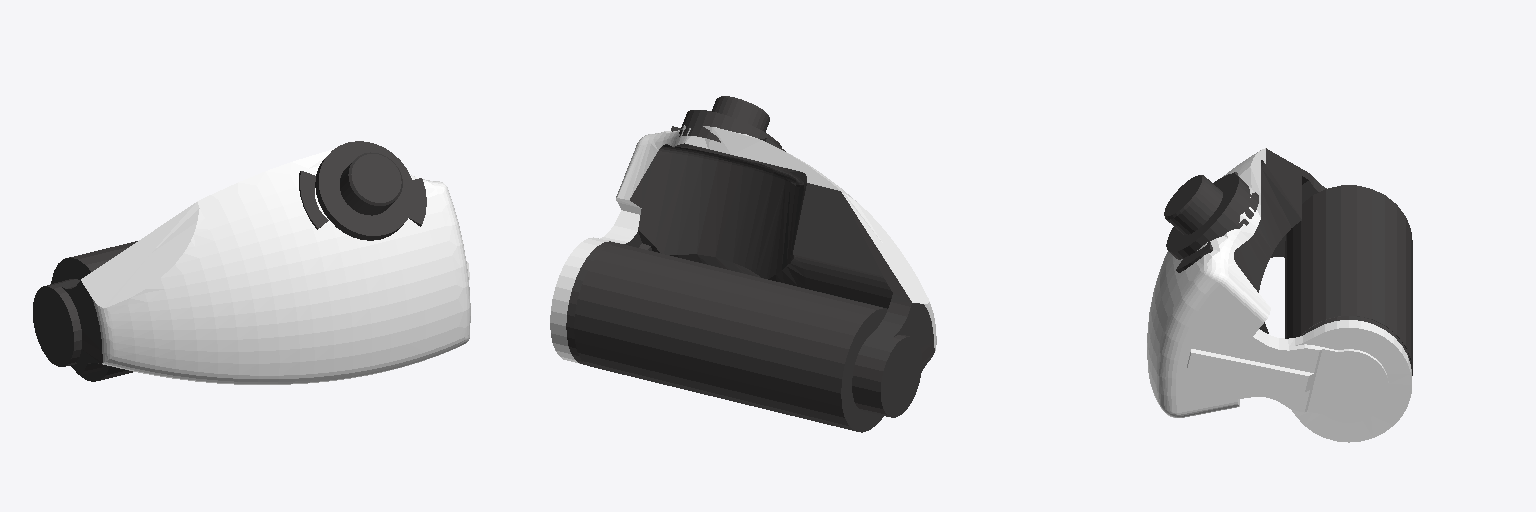
The picture shows the model from 3 angles: view 1: azimuth 30°, elevation 25°; view 2: azimuth 150°, elevation 25°; view 3: azimuth 270°, elevation 25°; orthographic projection.
Visible parts, largest first — view 1: RHipYawPitch_RHip; view 2: RHipYawPitch_RHip; view 3: RHipYawPitch_RHip.
Part boxes in pixels (x1,y1,x2,y2): RHipYawPitch_RHip: (33, 141, 470, 384); RHipYawPitch_RHip: (550, 96, 936, 432); RHipYawPitch_RHip: (1147, 148, 1412, 442).
Bounding box in the file's own units: 0.828 × 0.5298 × 0.5674.
Materials: 1 (1 with a texture image).